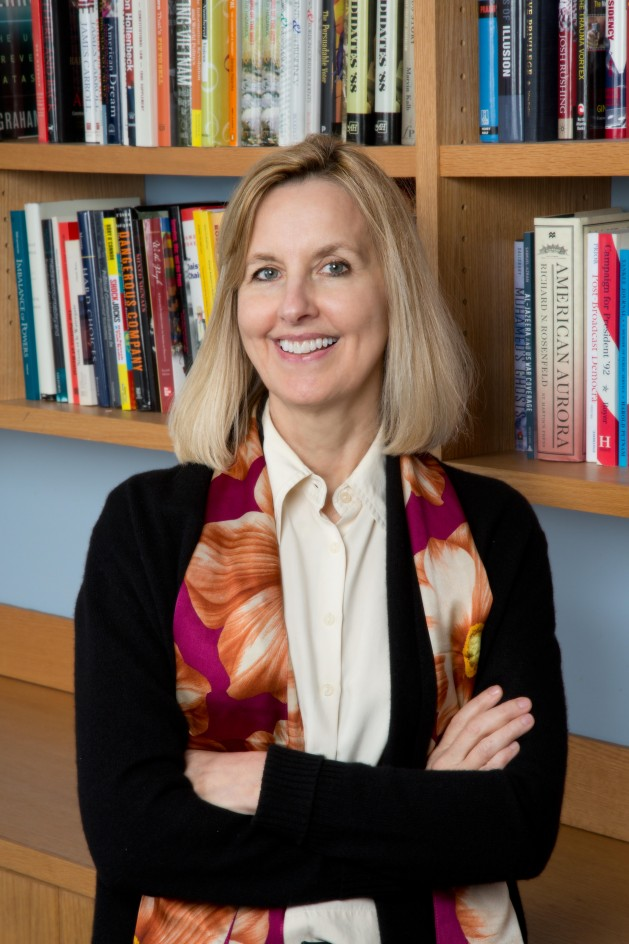human: (57, 130, 585, 944)
